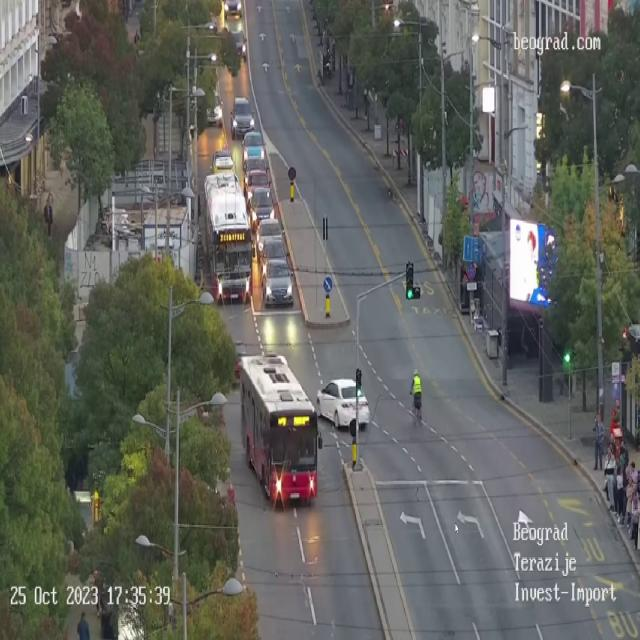bus: (239, 353, 321, 507), (204, 170, 252, 304)
car: (316, 377, 370, 432), (264, 258, 294, 302), (249, 186, 280, 228), (257, 220, 286, 260), (243, 130, 268, 168), (232, 99, 256, 137), (201, 86, 225, 123), (244, 168, 272, 196), (261, 239, 288, 263), (213, 147, 236, 173), (229, 31, 248, 58), (224, 0, 243, 19)
